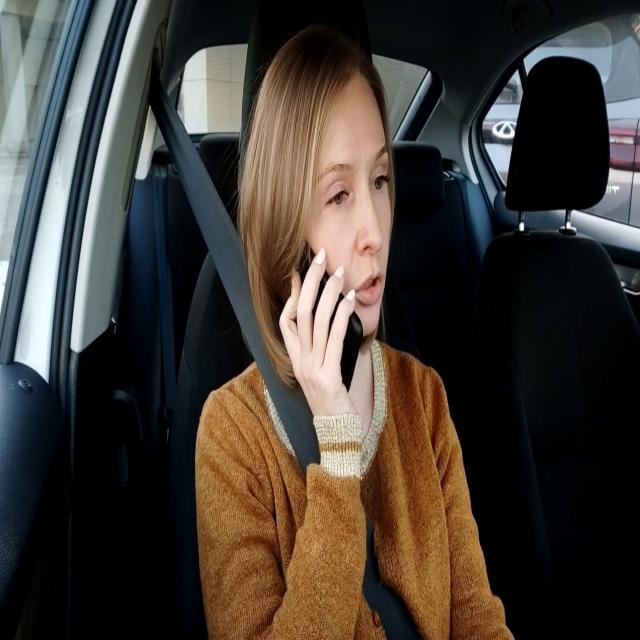phone: (291, 228, 366, 393)
